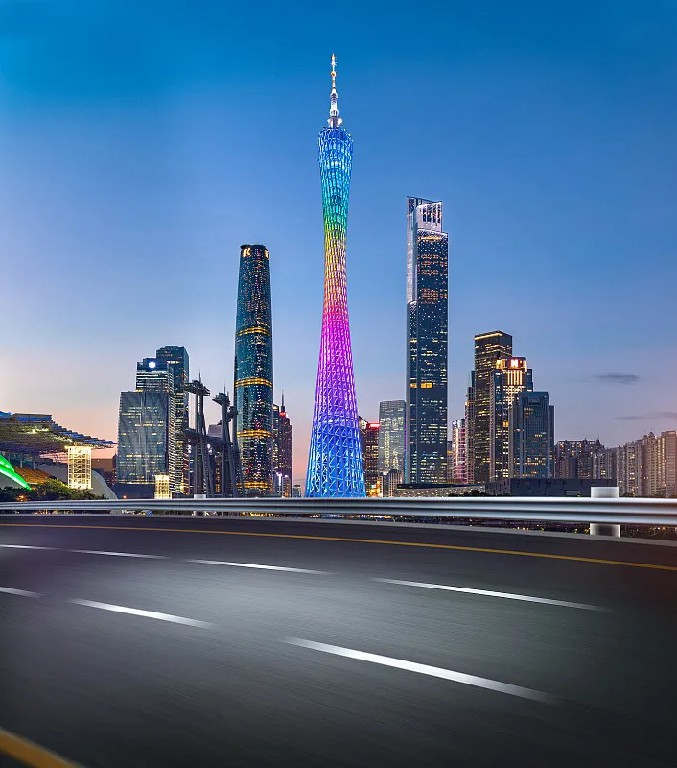Canton: (307, 48, 366, 499)
